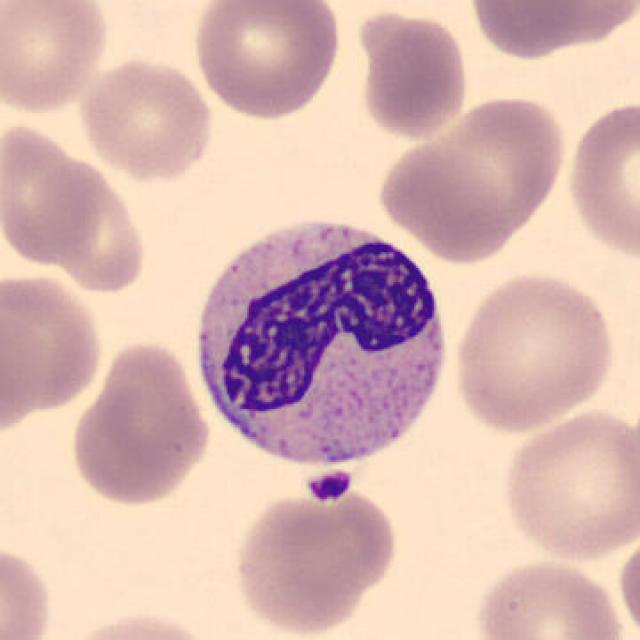Neutrophil: (187, 205, 457, 490)
Platelets: (306, 467, 354, 504)
RBC: (448, 268, 620, 435), (228, 483, 398, 637), (66, 336, 215, 509), (498, 406, 636, 564), (424, 94, 572, 235), (188, 0, 345, 122), (75, 55, 217, 183), (377, 145, 524, 261), (32, 160, 152, 299), (0, 120, 107, 270), (0, 268, 107, 418), (354, 9, 473, 143), (470, 555, 630, 640), (0, 0, 114, 118), (563, 95, 640, 266), (464, 0, 635, 60), (0, 302, 48, 442), (0, 539, 55, 640), (55, 608, 219, 640), (615, 529, 640, 640)
